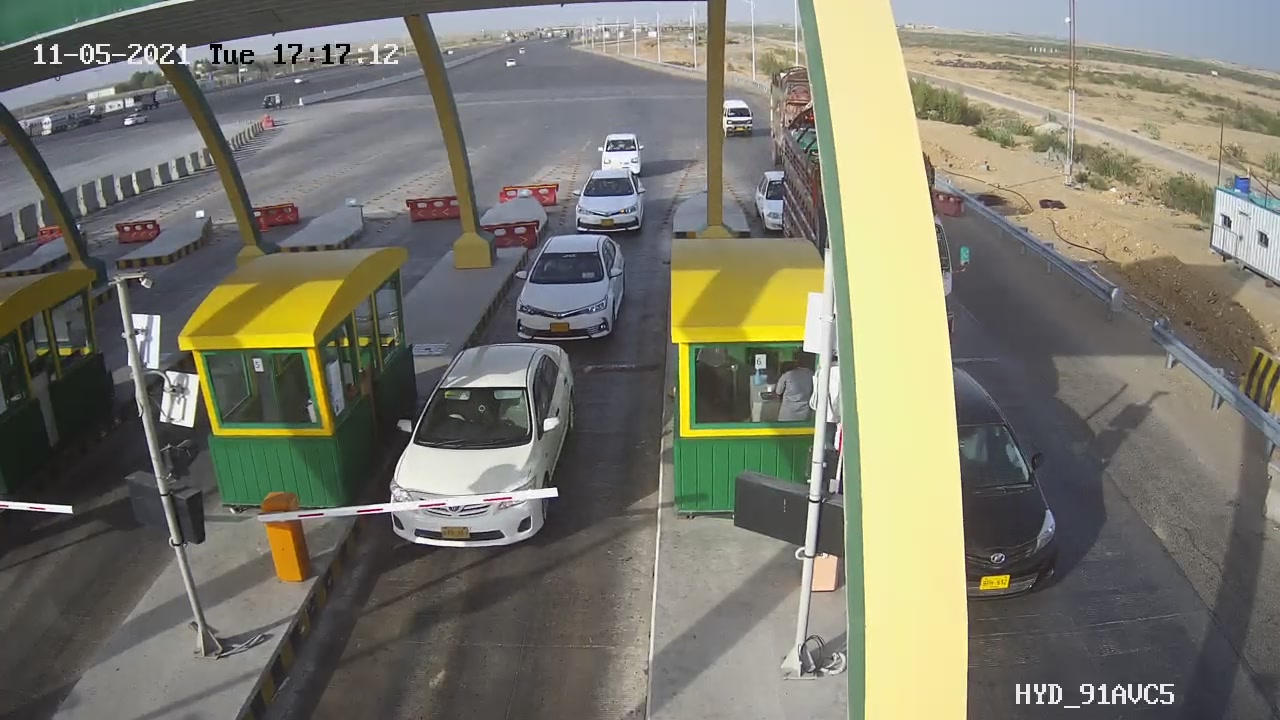F1: (366, 329, 591, 564), (500, 224, 647, 360)
